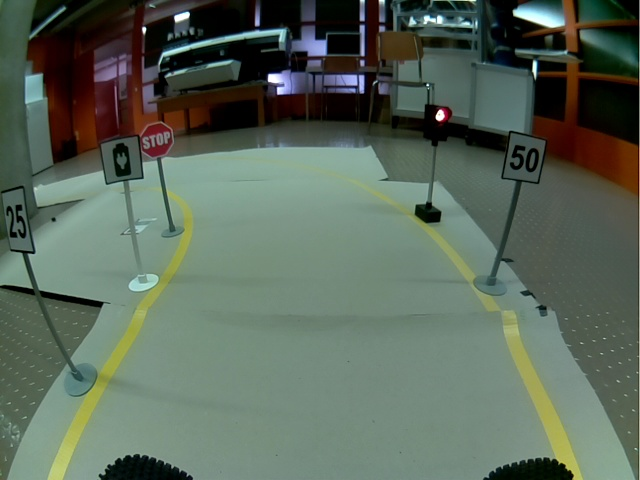battery: (99, 135, 144, 185)
speed25: (1, 185, 36, 254)
speed50: (501, 130, 547, 184)
stop: (139, 121, 175, 159)
trafficLightRed: (423, 104, 453, 142)
